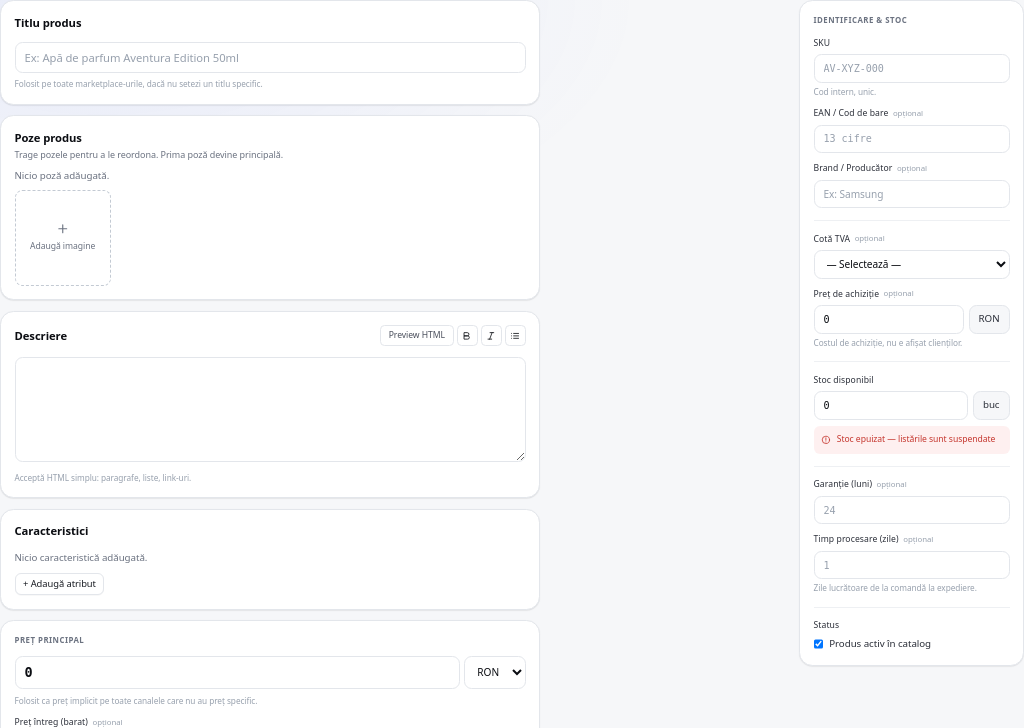
it: ProductForm (create mode) › appends attribute rows when clicking add attribute
expect the text "Nicio caracteristică adăugată." is shown: met, box [14,551,147,564]
Click the button "+ Adaugă atribut".
click(59, 584)  # box [14,573,104,595]
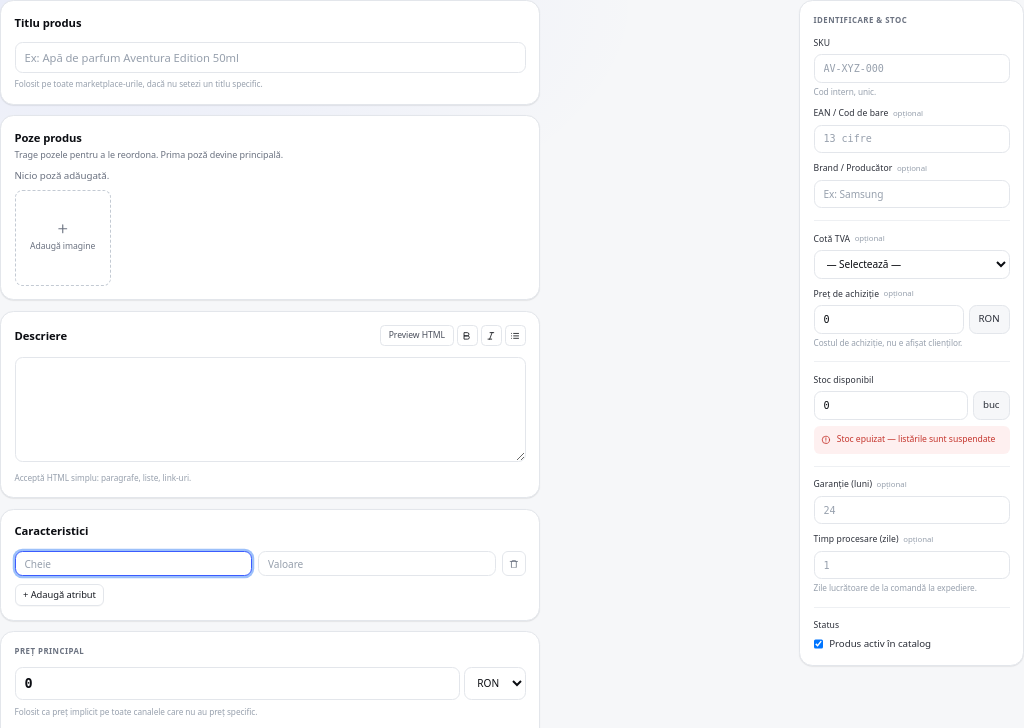
expect the field named "Cheie atribut 1" is shown: met, box [14,551,252,576]
